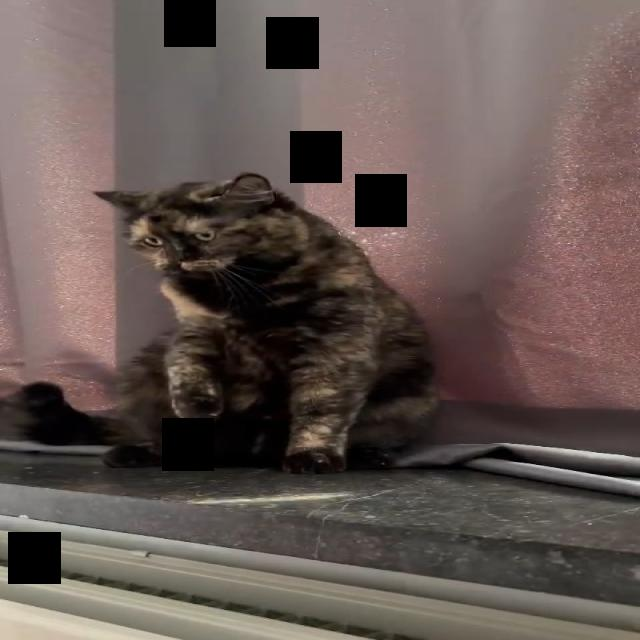authorized: (91, 171, 440, 475)
